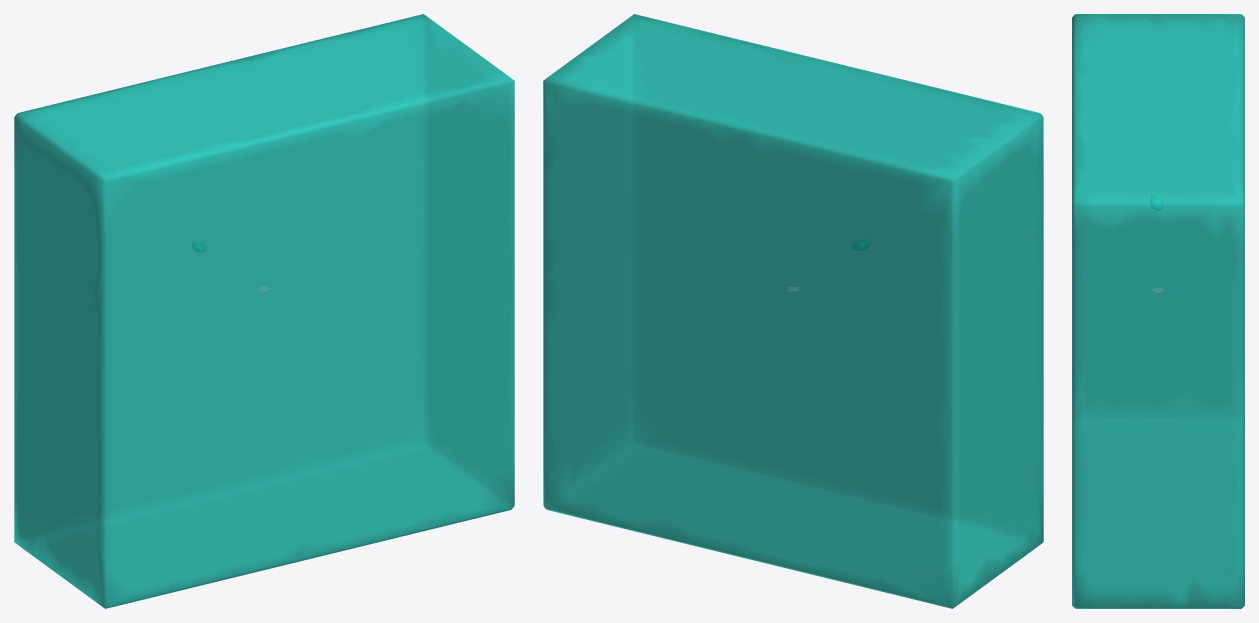
3 renders of one model, left to right at view 1: azimuth 30°, elevation 25°; view 2: azimuth 150°, elevation 25°; view 3: azimuth 270°, elevation 25°, orthographic. The views are drawn at different scales.
Parts seen in each view (by area): view 1: Liquid_Domain; view 2: Liquid_Domain; view 3: Liquid_Domain.
Boxes of the visible parts, bbox=[...] form: Liquid_Domain: bbox=[14, 14, 514, 608]; Liquid_Domain: bbox=[543, 14, 1043, 608]; Liquid_Domain: bbox=[1072, 14, 1244, 608].
Bounding box in the file's own units: 1948 × 1948 × 748.
